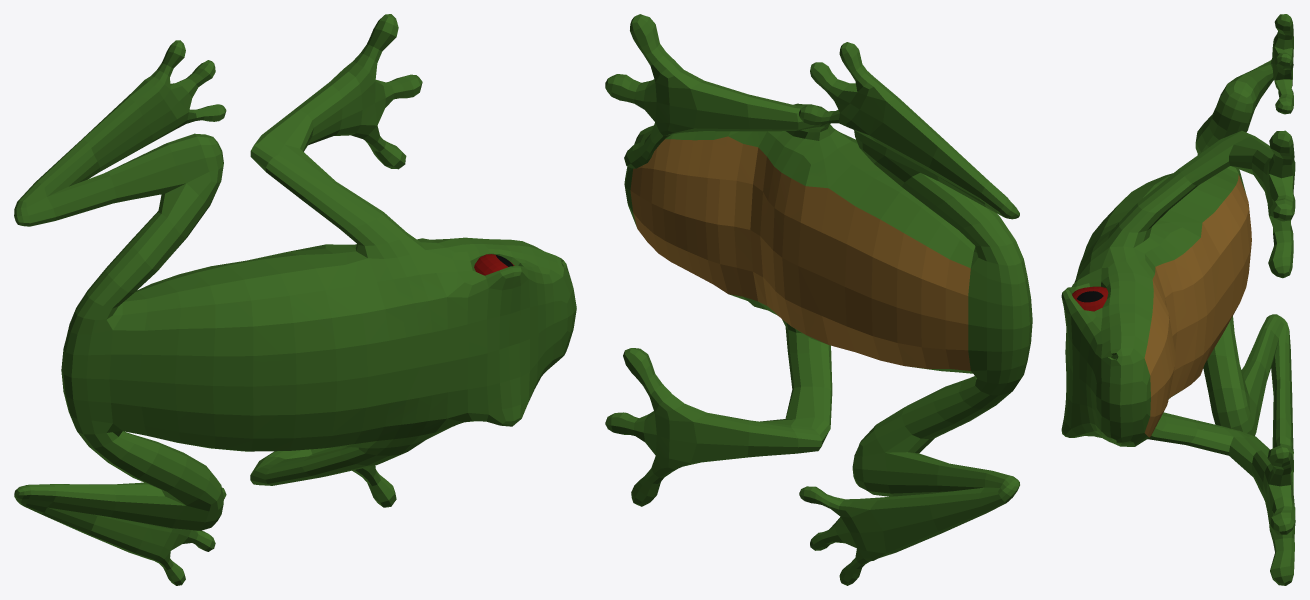
Rendered from SM_Frog.obj.
The picture shows the model from 3 angles, left to right: view 1: azimuth 30°, elevation 25°; view 2: azimuth 150°, elevation 25°; view 3: azimuth 270°, elevation 25°; orthographic projection. The views are drawn at different scales.
Visible parts, largest first — view 1: SM_Frog; view 2: SM_Frog; view 3: SM_Frog.
Boxes of the visible parts, x1,y1,x2,y2 form: SM_Frog: (14,14,576,585); SM_Frog: (605,14,1032,585); SM_Frog: (1061,14,1295,585).
Size of the model in its own units: 13 by 14.2 by 5.99.
